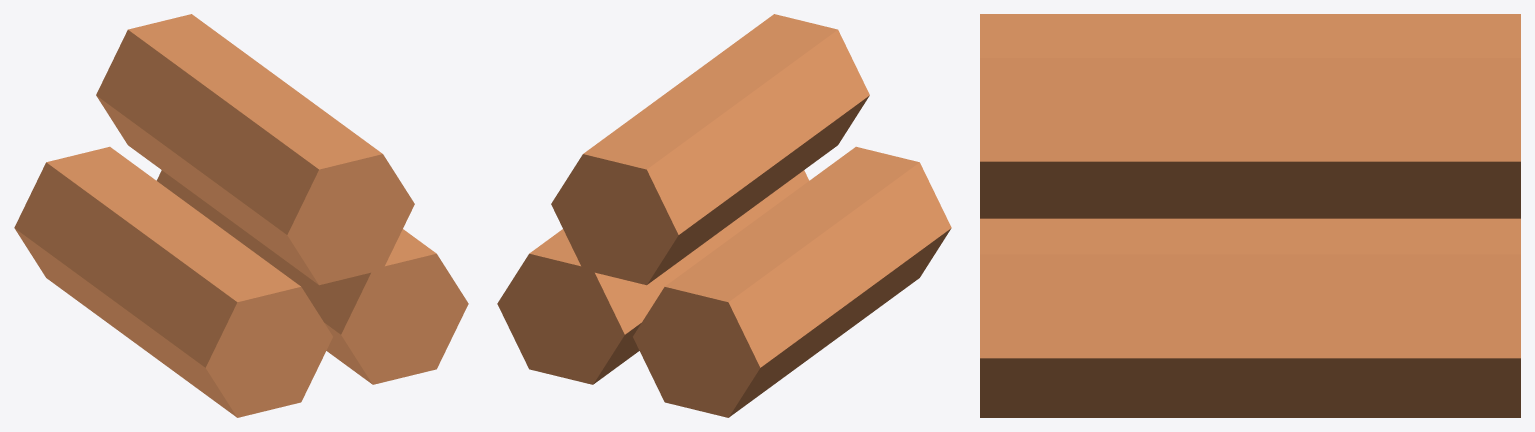
File: Environment_Log.fbx
3 renders of one model, left to right at view 1: azimuth 30°, elevation 25°; view 2: azimuth 150°, elevation 25°; view 3: azimuth 270°, elevation 25°, orthographic. The views are drawn at different scales.
Visible parts, largest first — view 1: Log; view 2: Log; view 3: Log.
Boxes of the visible parts, bbox=[...] form: Log: bbox=[14, 14, 468, 417]; Log: bbox=[497, 14, 951, 417]; Log: bbox=[980, 14, 1520, 417].
Size of the model in its own units: 1.86 by 1.54 by 2.34.
